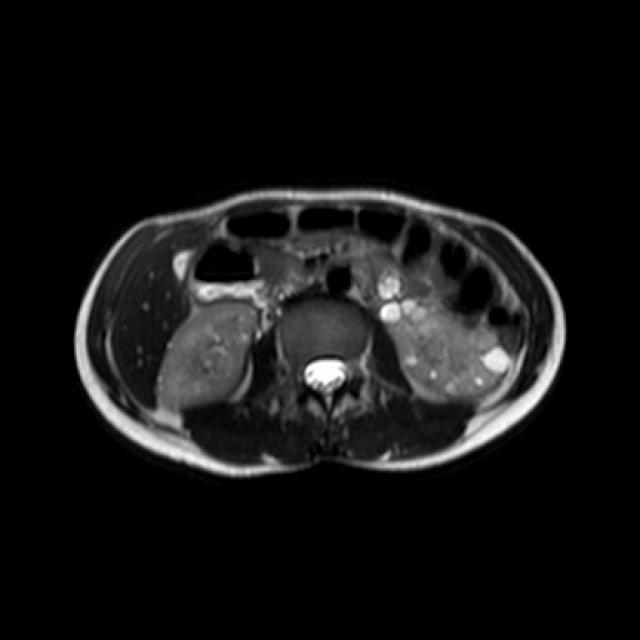sag: (156, 294, 262, 411)
sol: (382, 299, 511, 398)
